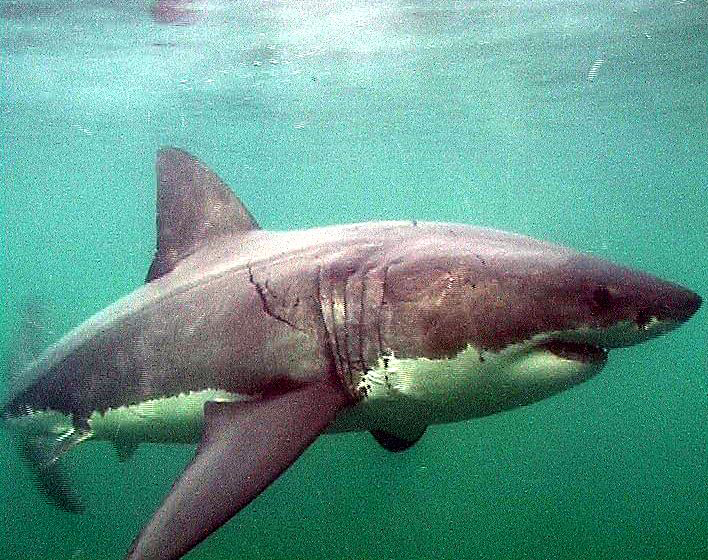Carcharodon_carcharias: (1, 138, 708, 545)
